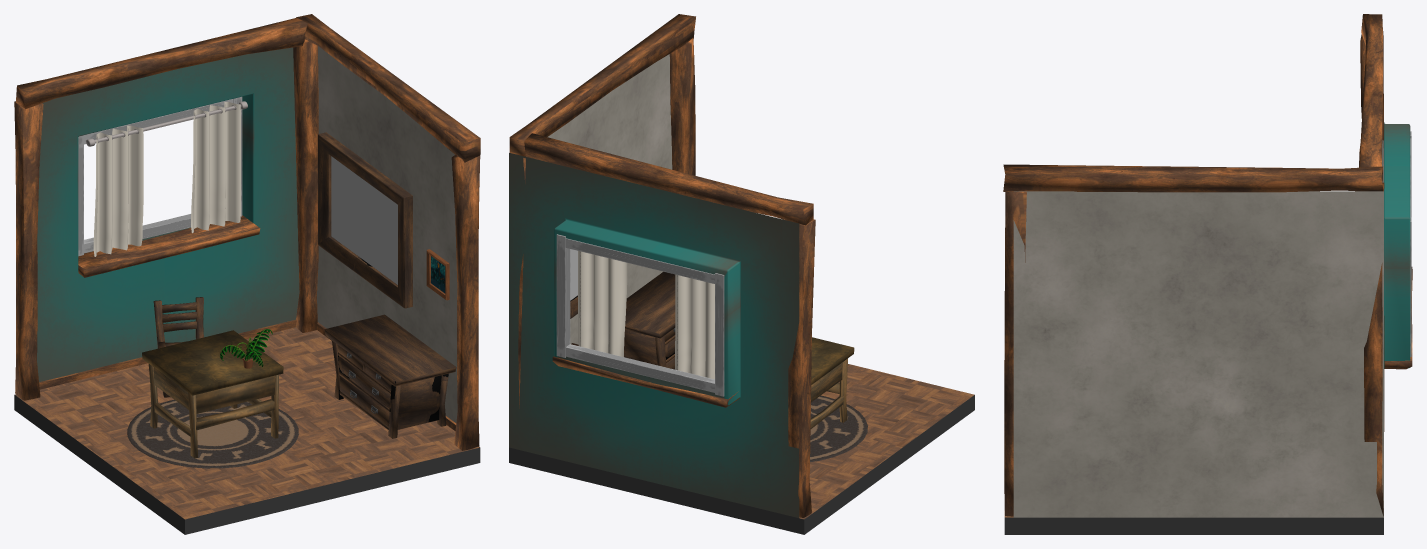
File: diorama flipped.gltf
The picture shows the model from 3 angles, left to right: view 1: azimuth 30°, elevation 25°; view 2: azimuth 150°, elevation 25°; view 3: azimuth 270°, elevation 25°; orthographic projection. The views are drawn at different scales.
Parts seen in each view (by area): view 1: Wall1, Floor, Wall2, Curtains.001, Ground Plate, Rug.001, Beam5, Beam2, Beam3, Beam2.001, Picture Frame - 2 Mountains Spring.003, Picture Frame - 2 Mountains Spring.002 (+14 smaller); view 2: Wall1, Floor, Curtains.001, Wall2, Ground Plate, Beam5, Beam4, Beam2, Beam3, Dresser.003, Rug.001, Cube.008 (+7 smaller); view 3: Wall2, Beam4, Ground Plate, Wall1, Beam3, Beam5, Beam2.001, Beam2.
Part boxes in pixels (bbox=[...]): Wall1: bbox=[37, 47, 299, 382]; Floor: bbox=[15, 327, 479, 519]; Wall2: bbox=[317, 46, 457, 422]; Curtains.001: bbox=[93, 102, 240, 256]; Ground Plate: bbox=[14, 395, 480, 534]; Rug.001: bbox=[127, 399, 298, 468]; Beam5: bbox=[16, 18, 307, 108]; Beam2: bbox=[14, 101, 43, 400]; Beam3: bbox=[451, 154, 480, 450]; Beam2.001: bbox=[293, 39, 318, 332]; Picture Frame - 2 Mountains Spring.003: bbox=[318, 132, 412, 308]; Picture Frame - 2 Mountains Spring.002: bbox=[331, 156, 397, 284]; Wall1: bbox=[509, 153, 799, 517]; Floor: bbox=[799, 364, 974, 519]; Curtains.001: bbox=[578, 251, 714, 379]; Wall2: bbox=[547, 54, 672, 344]; Ground Plate: bbox=[509, 395, 974, 534]; Beam5: bbox=[524, 133, 813, 225]; Beam4: bbox=[509, 14, 695, 156]; Beam2: bbox=[788, 219, 815, 517]; Beam3: bbox=[669, 38, 695, 175]; Dresser.003: bbox=[625, 271, 675, 338]; Rug.001: bbox=[810, 395, 867, 462]; Cube.008: bbox=[565, 344, 714, 392]; Wall2: bbox=[1013, 191, 1383, 517]; Beam4: bbox=[1003, 164, 1383, 192]; Ground Plate: bbox=[1004, 517, 1383, 534]; Wall1: bbox=[1384, 122, 1410, 368]; Beam3: bbox=[1004, 191, 1026, 516]; Beam5: bbox=[1359, 14, 1382, 167]; Beam2.001: bbox=[1364, 182, 1384, 516]; Beam2: bbox=[1360, 31, 1383, 140].
Bounding box in the file's own units: 2.77 × 2.88 × 2.96.
